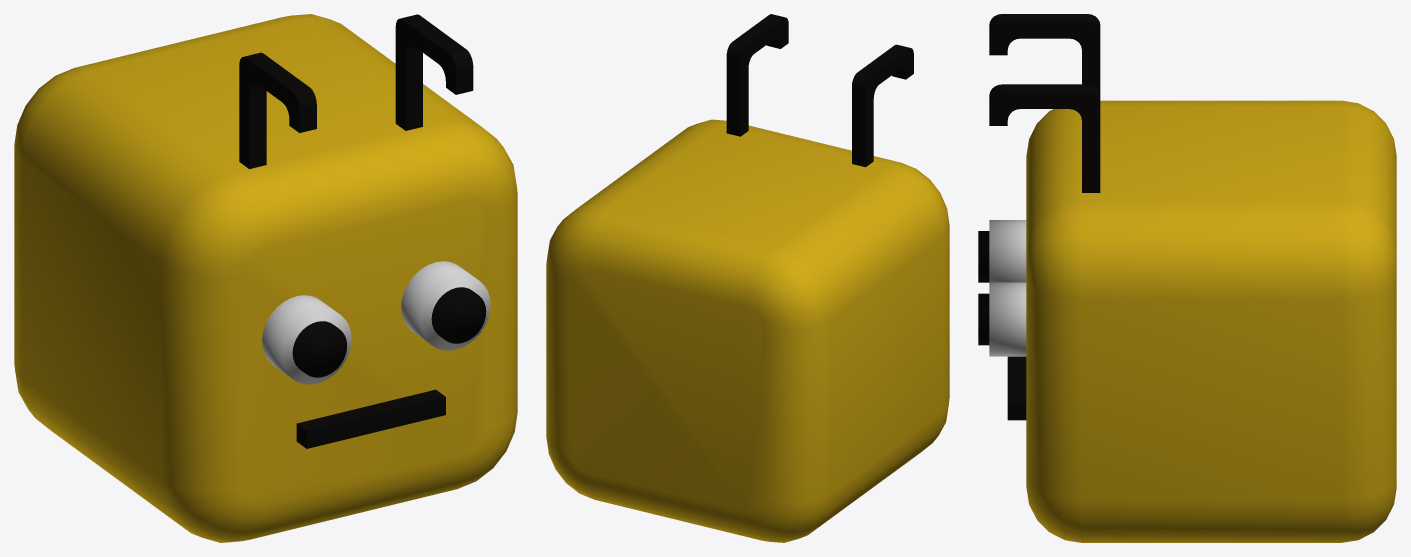
The model's file is Player.obj.
3 views of the same model, side by side, from view 1: azimuth 30°, elevation 25°; view 2: azimuth 150°, elevation 25°; view 3: azimuth 270°, elevation 25° (orthographic). The views are drawn at different scales.
Visible parts, largest first — view 1: Cube.001; view 2: Cube.001; view 3: Cube.001.
Boxes of the visible parts, x1,y1,x2,y2 form: Cube.001: (14, 14, 517, 542); Cube.001: (546, 14, 949, 542); Cube.001: (978, 14, 1396, 542).
Size of the model in its own units: 1 by 1.3 by 1.13.
